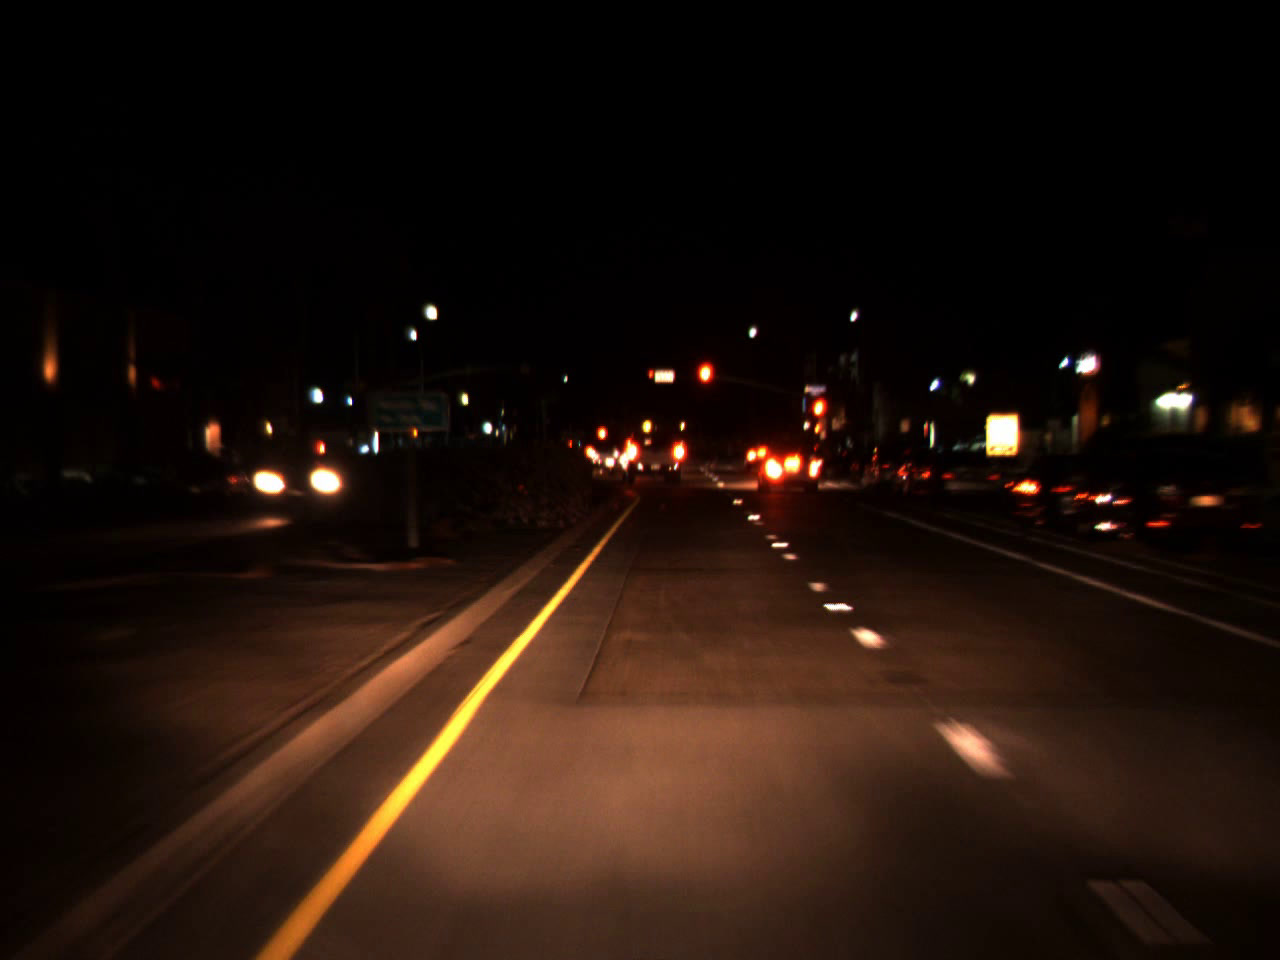stop: (808, 393, 829, 444), (694, 359, 716, 407), (647, 368, 654, 389)
